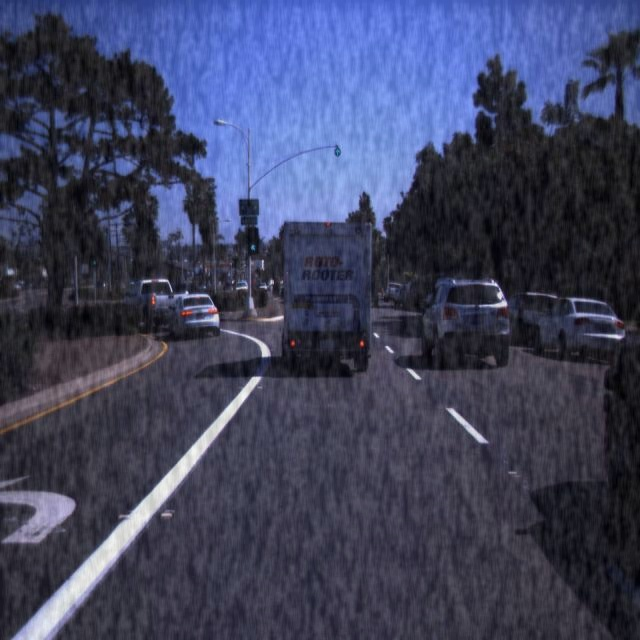go forward: (330, 128, 344, 158), (90, 246, 100, 266)
go forward traffic light: (330, 128, 344, 158), (90, 246, 100, 266)
go left: (248, 229, 258, 252)
go left traffic light: (248, 229, 258, 252)
